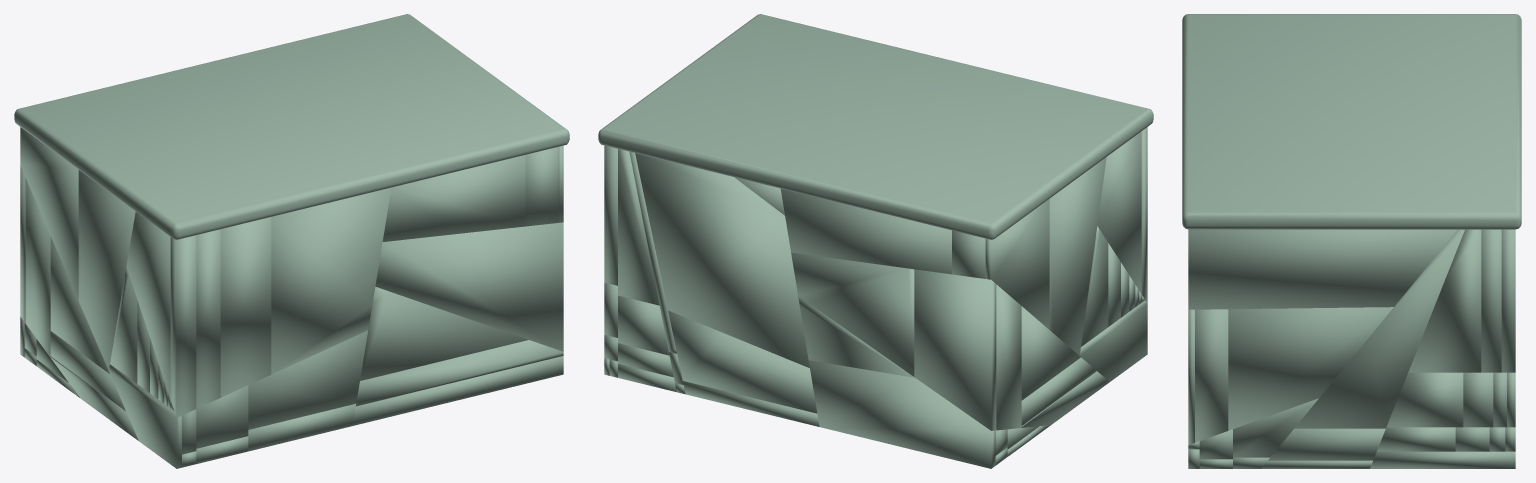
Rendered from collision-hulls.glb.
The picture shows the model from 3 angles, left to right: view 1: azimuth 30°, elevation 25°; view 2: azimuth 150°, elevation 25°; view 3: azimuth 270°, elevation 25°; orthographic projection. The views are drawn at different scales.
Visible parts, largest first — view 1: fragment-016-hull-00, fragment-009-hull-00, fragment-004-hull-00, fragment-008-hull-02, fragment-004-hull-01, fragment-002-hull-00, fragment-001-hull-01, fragment-005-hull-00, fragment-001-hull-03, fragment-004-hull-04, fragment-002-hull-01, fragment-004-hull-03 (+15 smaller); view 2: fragment-016-hull-00, fragment-013-hull-00, fragment-010-hull-09, fragment-003-hull-06, fragment-003-hull-05, fragment-001-hull-00, fragment-015-hull-00, fragment-001-hull-01, fragment-001-hull-03, fragment-004-hull-04, fragment-007-hull-17, fragment-003-hull-04 (+17 smaller); view 3: fragment-016-hull-00, fragment-008-hull-00, fragment-009-hull-02, fragment-006-hull-00, fragment-007-hull-00, fragment-009-hull-01, fragment-007-hull-03, fragment-006-hull-02, fragment-007-hull-01, fragment-007-hull-11, fragment-002-hull-07, fragment-007-hull-02 (+10 smaller).
Boxes of the visible parts, box(x1,y1,x2,y2) form: fragment-016-hull-00: box(14, 14, 569, 239); fragment-009-hull-00: box(375, 222, 563, 351); fragment-004-hull-00: box(271, 187, 391, 374); fragment-008-hull-02: box(382, 155, 525, 241); fragment-004-hull-01: box(220, 217, 271, 397); fragment-002-hull-00: box(360, 286, 528, 380); fragment-001-hull-01: box(78, 170, 135, 370); fragment-005-hull-00: box(248, 330, 367, 429); fragment-001-hull-03: box(20, 127, 78, 300); fragment-004-hull-04: box(126, 211, 170, 398); fragment-002-hull-01: box(356, 340, 563, 406); fragment-004-hull-03: box(170, 235, 196, 417); fragment-016-hull-00: box(598, 14, 1153, 239); fragment-013-hull-00: box(635, 153, 809, 367); fragment-010-hull-09: box(808, 360, 995, 468); fragment-003-hull-06: box(914, 269, 996, 430); fragment-003-hull-05: box(791, 252, 914, 376); fragment-001-hull-00: box(780, 188, 951, 274); fragment-015-hull-00: box(668, 310, 817, 413); fragment-001-hull-01: box(1049, 157, 1106, 355); fragment-001-hull-03: box(985, 199, 1049, 329); fragment-004-hull-04: box(1097, 131, 1141, 293); fragment-007-hull-17: box(618, 149, 659, 305); fragment-003-hull-04: box(996, 284, 1021, 430); fragment-016-hull-00: box(1182, 14, 1521, 229); fragment-008-hull-00: box(1188, 229, 1457, 309); fragment-009-hull-02: box(1228, 307, 1393, 430); fragment-006-hull-00: box(1294, 229, 1464, 428); fragment-007-hull-00: box(1408, 229, 1481, 372); fragment-009-hull-01: box(1195, 309, 1228, 442); fragment-007-hull-03: box(1386, 372, 1463, 427); fragment-006-hull-02: box(1268, 428, 1385, 460); fragment-007-hull-01: box(1481, 229, 1501, 372); fragment-007-hull-11: box(1370, 451, 1515, 468); fragment-002-hull-07: box(1233, 398, 1318, 457); fragment-007-hull-02: box(1501, 229, 1515, 372).
Bounding box in the file's own units: 0.3 × 0.1773 × 0.2123.
